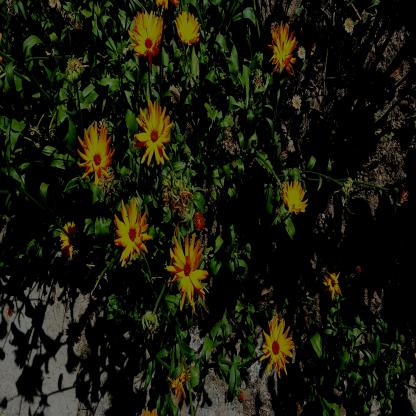marigold: (168, 233, 209, 306), (112, 195, 152, 268), (134, 97, 174, 166), (77, 120, 116, 184), (128, 9, 168, 69), (263, 313, 294, 377), (268, 20, 298, 77), (283, 178, 308, 217), (174, 11, 201, 46), (61, 219, 82, 260)
